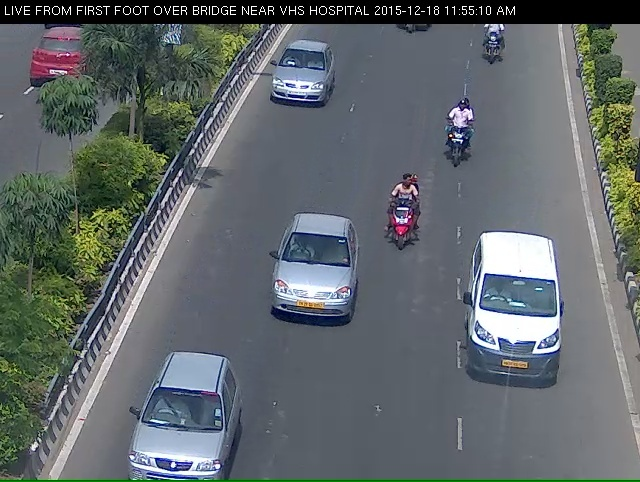Car: (444, 242, 584, 422), (262, 226, 362, 360), (113, 375, 235, 481), (259, 35, 335, 127)
Person: (376, 189, 425, 272), (435, 102, 479, 183), (470, 20, 511, 84)
